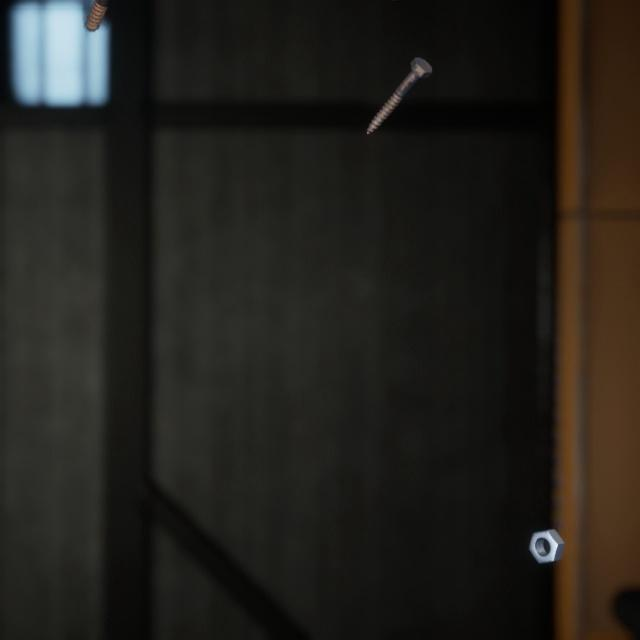bolt: (362, 42, 436, 128), (80, 0, 112, 29)
nut: (524, 502, 569, 545)
